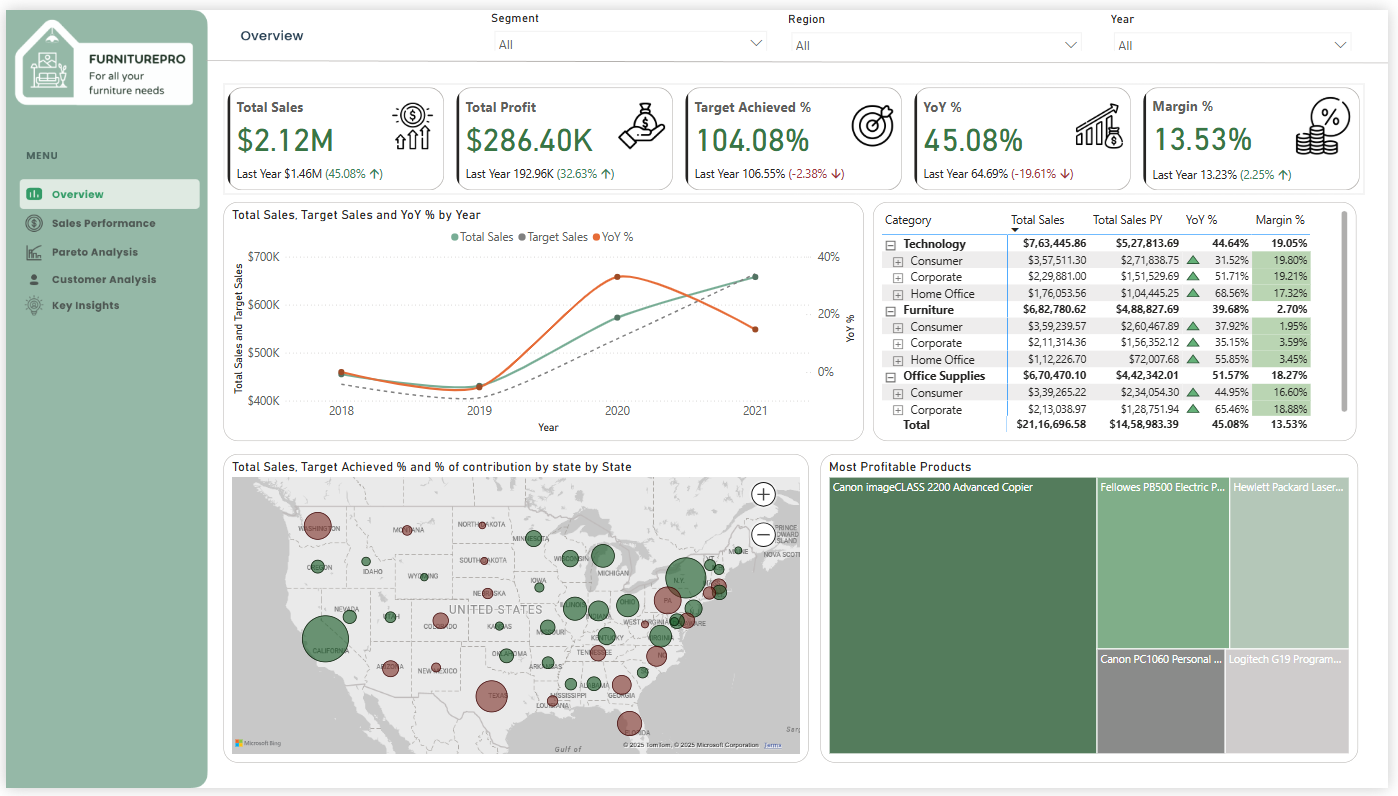

This screenshot's page, from the dashboard's own definition file:
{"tool":"powerbi","page":{"name":"Overview","canvas":[1920,1080],"ordinal":0},"visuals":[{"type":"lineChart","fields":{"Y":["Measures (2).Total Sales","Measures (2).Target Sales"],"Category":["Date Dim.Date Hierarchy.Year","Date Dim.Date Hierarchy.Quarter","Date Dim.Date Hierarchy.Month Name"],"Y2":["Measures (2).YoY %"]},"box":[301.8,266.1,889.3,332.1],"z":0},{"type":"slicer","title":"Year","fields":{"Values":["Date Dim.Year"]},"box":[1529.1,1.8,349.1,54.5],"z":1000},{"type":"cardVisual","fields":{"Data":["Measures (2).Total Sales","Measures (2).Profit","Measures (2).Target %","Measures (2).YoY %","Measures (2).% Margin"]},"box":[301.8,101.8,1585.7,153.6],"z":2000},{"type":"treemap","title":"Most Profitable Products","fields":{"Group":["Product Dim.Product Name"],"Values":["Measures (2).Profit"]},"box":[1130.4,616.1,746.4,428.6],"z":3000},{"type":"map","fields":{"Category":["State Dim.Country","State Dim.State","Location Dim.City"],"Size":["Measures (2).Total Sales"]},"box":[301.8,616.1,812.5,428.6],"z":4000},{"type":"slicer","title":"Region","fields":{"Values":["Location Dim.Region"]},"box":[1081.1,1.2,422.7,55],"z":5000},{"type":"slicer","title":"Segment","fields":{"Values":["Orders Fact.Segment"]},"box":[669.1,0.3,398,56.9],"z":6000},{"type":"pivotTable","fields":{"Rows":["Product Dim.Category","Orders Fact.Segment","Location Dim.Region"],"Values":["Measures (2).Total Sales","Measures (2).Total Sales PY","Measures (2).YoY %","Measures (2).Margin %"]},"box":[1203.6,266.1,671.4,332.1],"z":7000},{"type":"actionButton","box":[12,236,260,38],"z":8000},{"type":"actionButton","box":[20,274,246,40],"z":9000},{"type":"actionButton","box":[20,313.3,246.7,40],"z":10000},{"type":"actionButton","box":[20,353.3,246.7,40],"z":11000},{"type":"actionButton","box":[20,393.3,246.7,40],"z":12000}]}

Visuals, with their boxes on the page's 1920x1080 design canvas (x1, y1, x2, y2). These are canvas units, not pixel positions in the 1398x796 screenshot, which may show the page scaled, cropped or inside an application window:
lineChart - Measures (2).Total Sales x Measures (2).Target Sales: box=[302, 266, 1191, 598]
"Year" slicer: box=[1529, 2, 1878, 56]
cardVisual - Measures (2).Total Sales x Measures (2).Profit: box=[302, 102, 1888, 255]
"Most Profitable Products" treemap: box=[1130, 616, 1877, 1045]
map - State Dim.Country x State Dim.State: box=[302, 616, 1114, 1045]
"Region" slicer: box=[1081, 1, 1504, 56]
"Segment" slicer: box=[669, 0, 1067, 57]
pivotTable - Product Dim.Category x Orders Fact.Segment: box=[1204, 266, 1875, 598]
actionButton: box=[12, 236, 272, 274]
actionButton: box=[20, 274, 266, 314]
actionButton: box=[20, 313, 267, 353]
actionButton: box=[20, 353, 267, 393]
actionButton: box=[20, 393, 267, 433]
